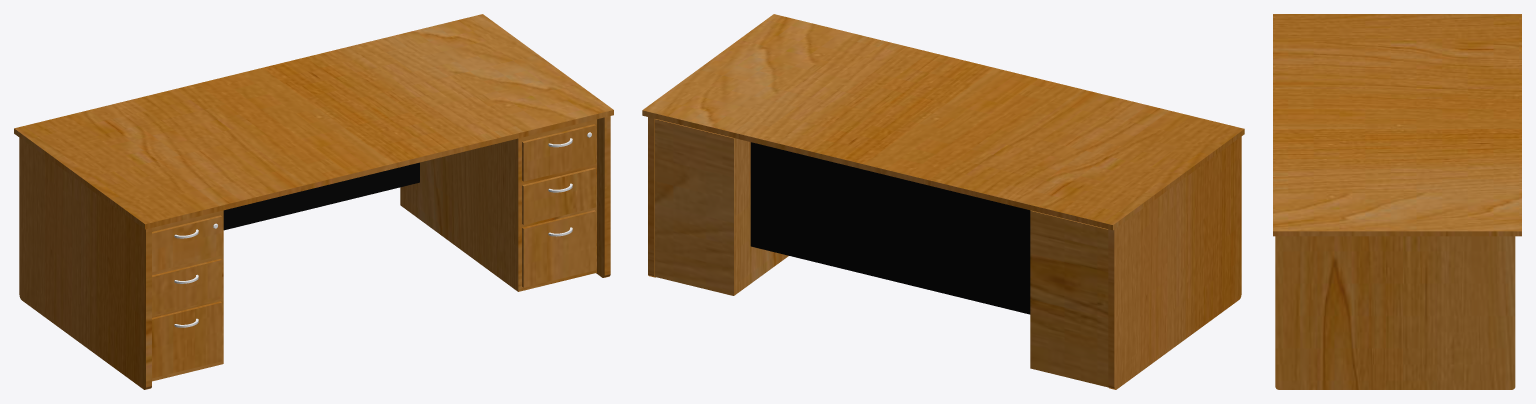
Rendered from Office.FBX.
The picture shows the model from 3 angles, left to right: view 1: azimuth 30°, elevation 25°; view 2: azimuth 150°, elevation 25°; view 3: azimuth 270°, elevation 25°; orthographic projection. The views are drawn at different scales.
Visible parts, largest first — view 1: Box003, Box016, Box015; view 2: Box003, Box016; view 3: Box003.
Part boxes in pixels (x1,y1,x2,y2): Box003: (14,14,613,389); Box016: (223,162,419,230); Box015: (174,138,572,327); Box003: (642,14,1244,389); Box016: (750,142,1030,314); Box003: (1273,14,1521,389).
Bounding box in the file's own units: 3235 × 1110 × 1566.
Materials: 3 (1 with a texture image).
